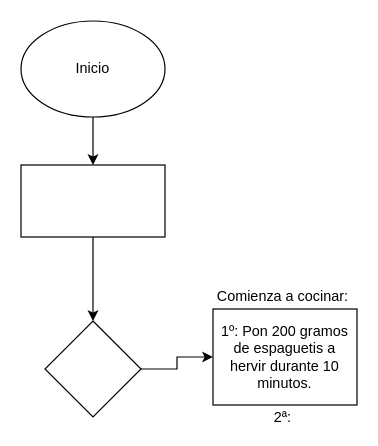
The diagram is 378 pixels wide and 446 high, and some of its shapes have lost their labels. The shapes that lost their labels are listed below. From the top down, each one's box as (x1, y1, x2, y2) in pixels, then its label:
(20, 164, 165, 237): Cocinar un plato de espaguetis con salsa de tomate.
(44, 320, 141, 417): ¿Tienes los ingredientes necesarios?
